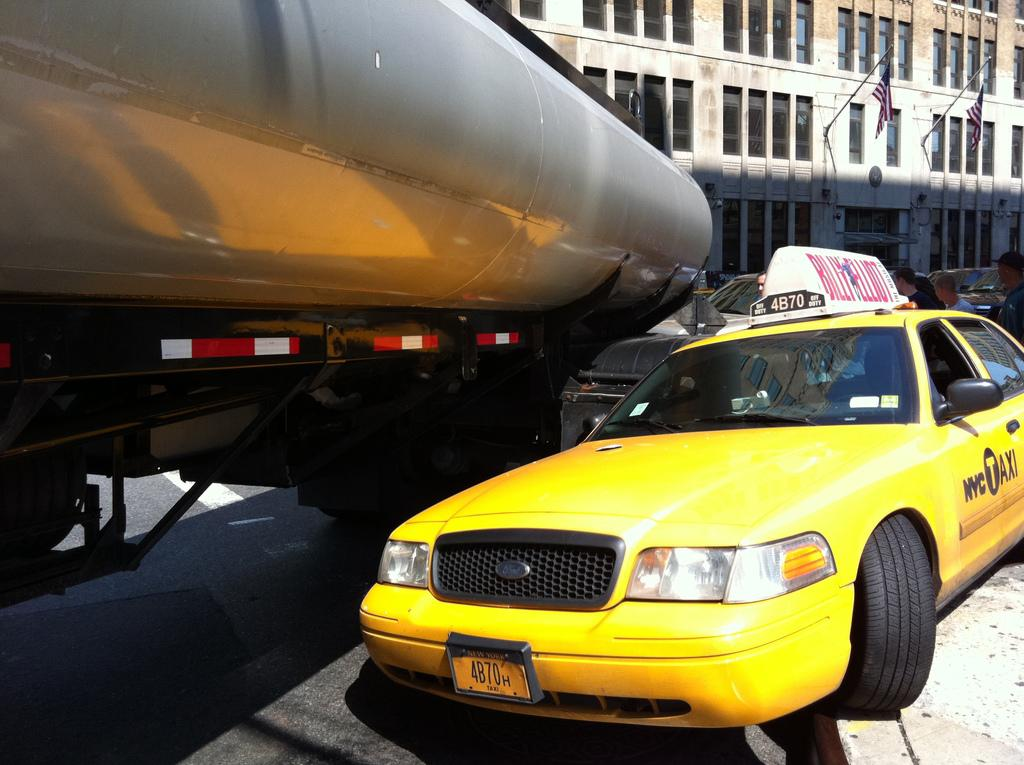taxi: (360, 247, 1024, 729)
